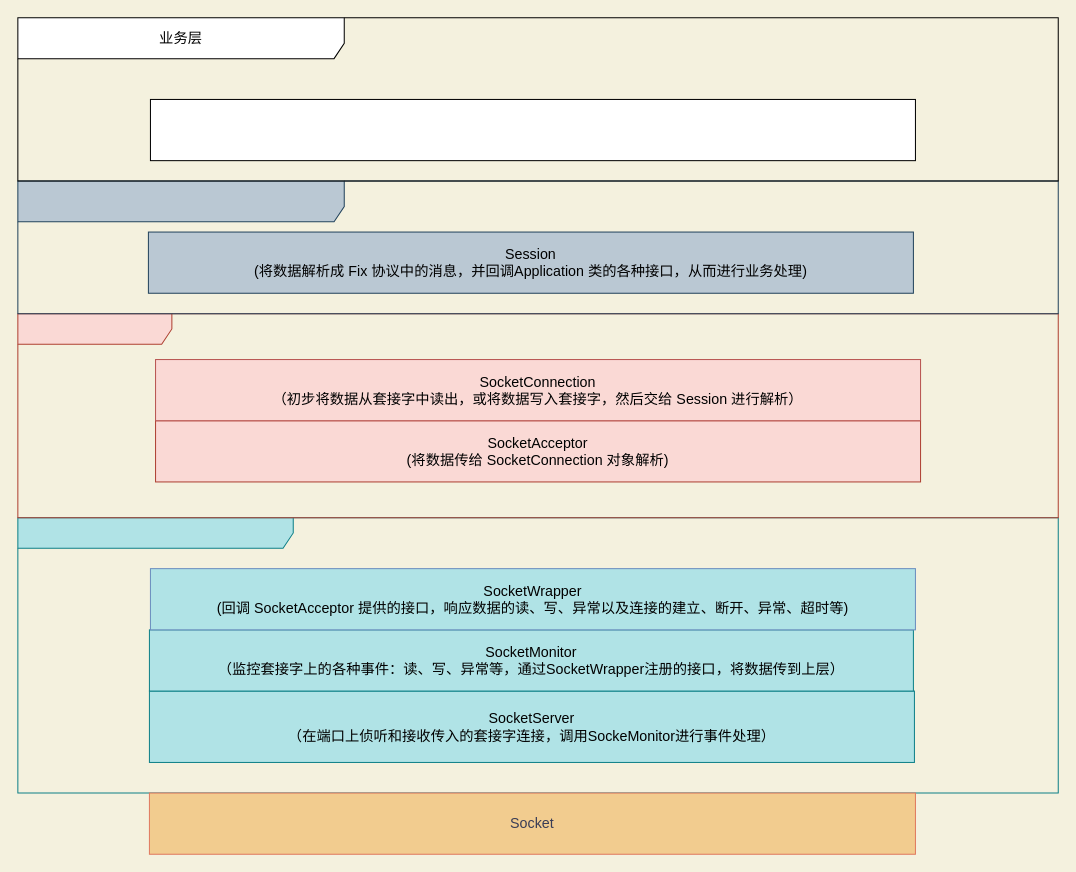
This 1076x872 diagram has some shape labels left out. The box of each missing label's shape, as (x1, y1, x2, y2) in pixels:
Application (对消息进行业务处理): (149, 98, 915, 161)
中间层: (17, 313, 1058, 518)
对socket进行封装与套接字进行直接地交互: (17, 517, 1058, 793)
将数据解析成消息，或将消息转换成传输的数据: (17, 180, 1058, 314)
